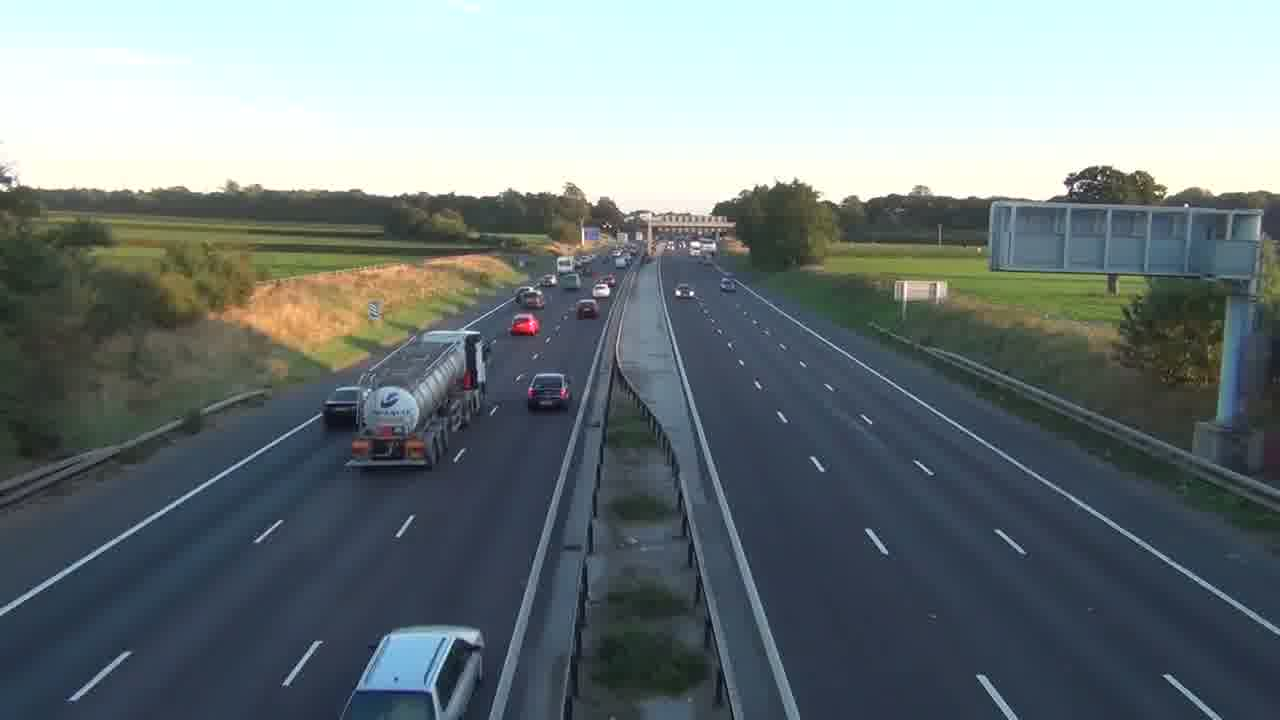car: (339, 623, 486, 719), (322, 385, 367, 427), (526, 372, 573, 412), (510, 312, 541, 336), (575, 298, 599, 320), (522, 289, 545, 309), (592, 280, 611, 297), (674, 284, 694, 298)
truck: (346, 328, 486, 470)
